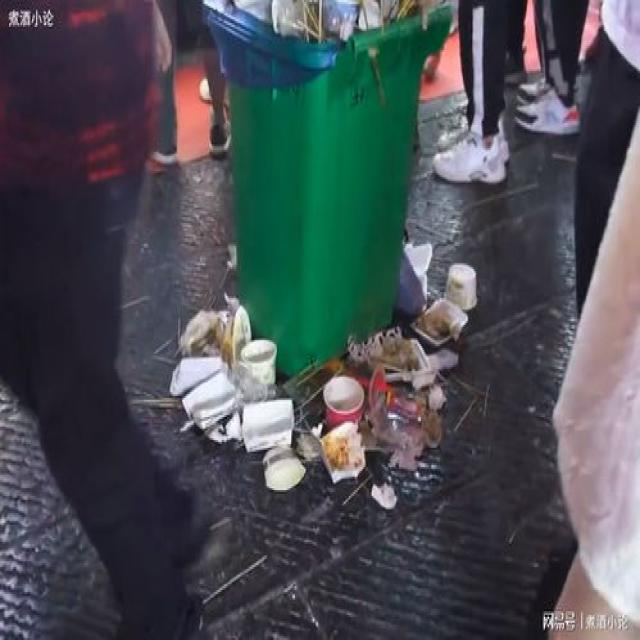garbage: (171, 242, 477, 508)
overflow: (204, 0, 450, 375)
